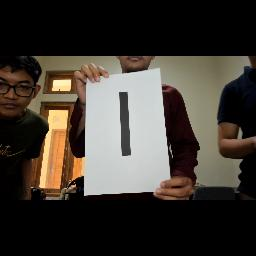i: (116, 88, 136, 160)
